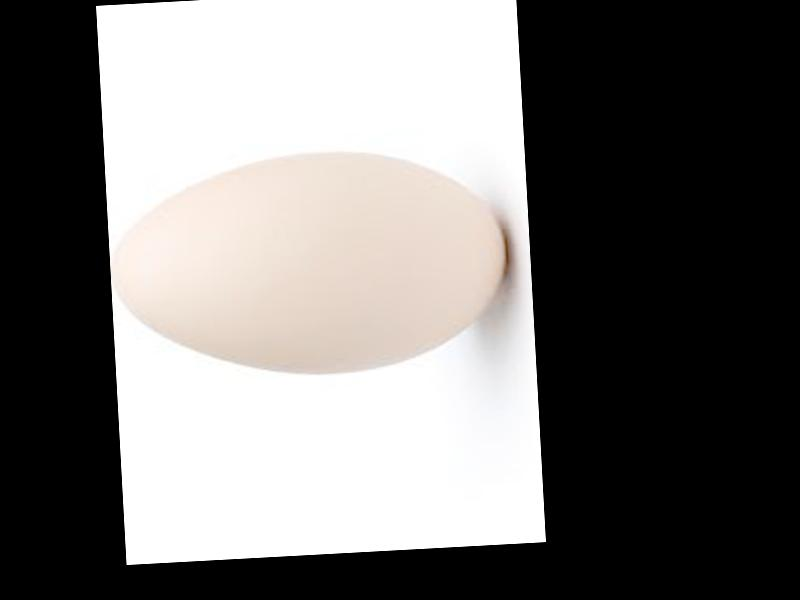Eggs: (107, 142, 516, 384)
